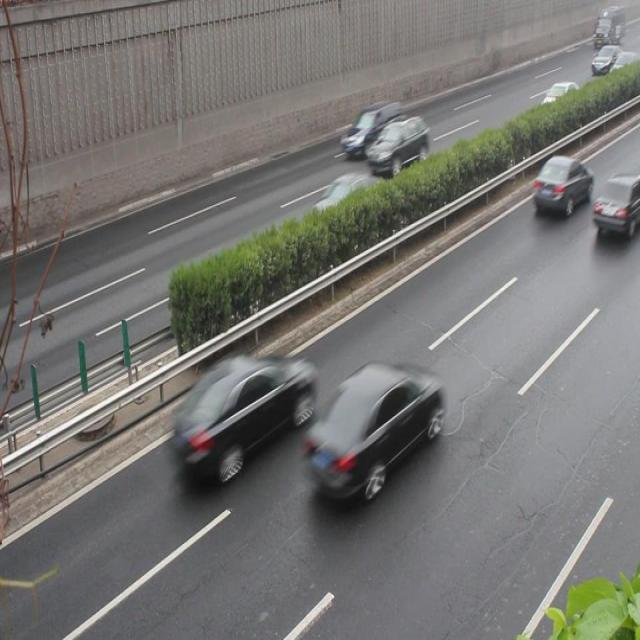car: (300, 361, 439, 499), (168, 354, 310, 476), (304, 169, 384, 236), (530, 153, 589, 213), (363, 115, 426, 171), (589, 172, 639, 235)
